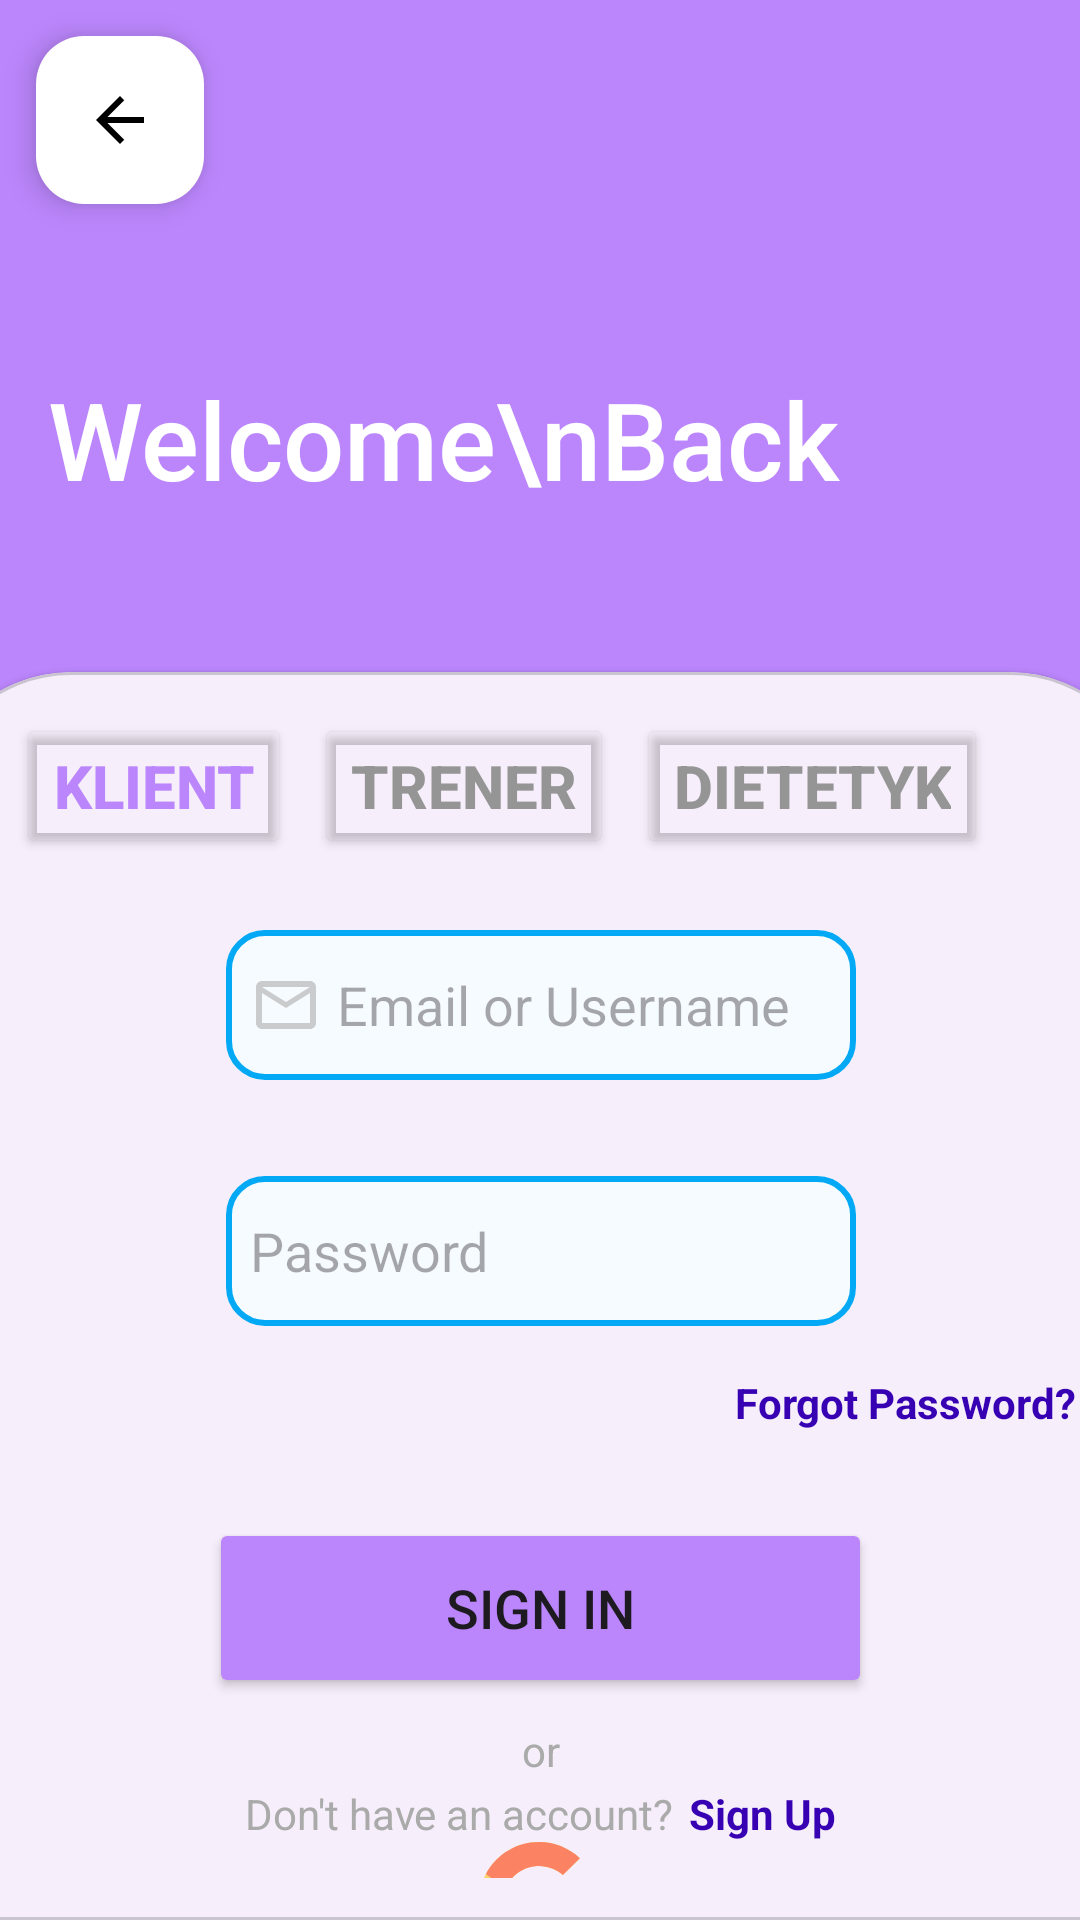

Where icons sit on this 1080w x 1920h app screen, as (x1, y1, x2, y2):
arrow back: (36, 36, 204, 204)
